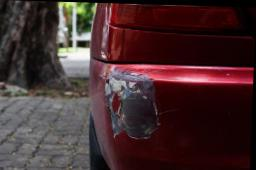Bumper: (94, 61, 254, 170)
